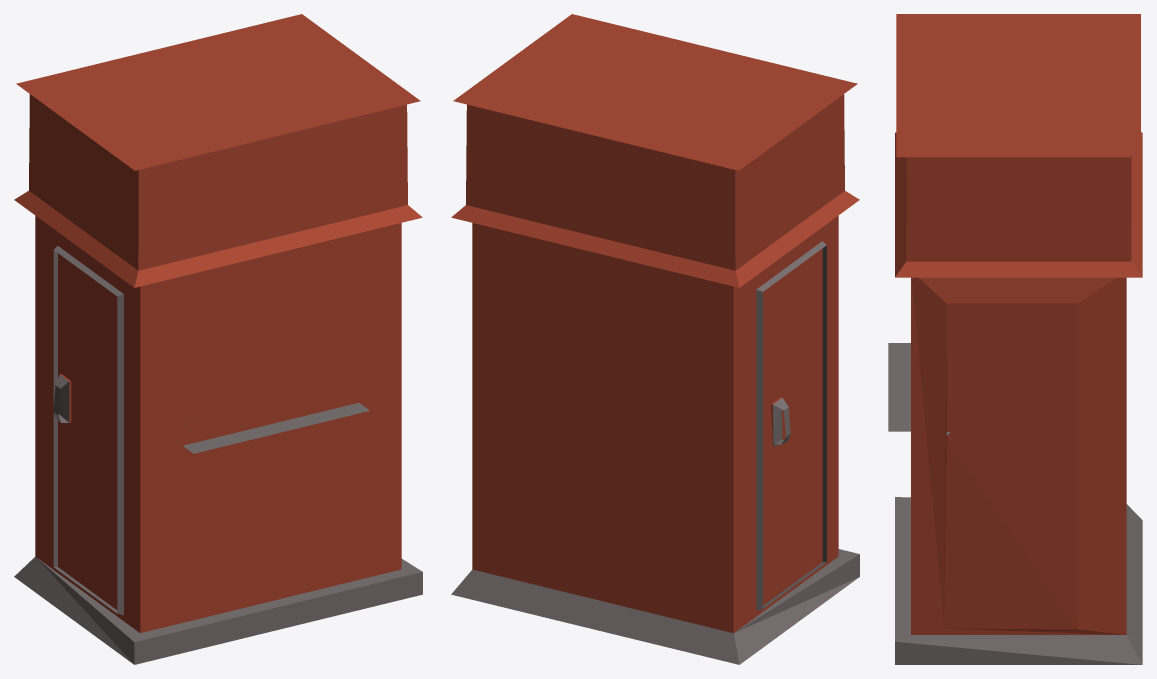
Rendered from ticket-booth.lod2.glb.
3 views of the same model, side by side, from view 1: azimuth 30°, elevation 25°; view 2: azimuth 150°, elevation 25°; view 3: azimuth 270°, elevation 25° (orthographic). The views are drawn at different scales.
Visible parts, largest first — view 1: Object_2; view 2: Object_2; view 3: Object_2.
Boxes of the visible parts, x1,y1,x2,y2 form: Object_2: (14,14,422,664); Object_2: (451,14,859,664); Object_2: (888,14,1142,664).
Bounding box in the file's own units: 1.63 × 2.63 × 1.2.
